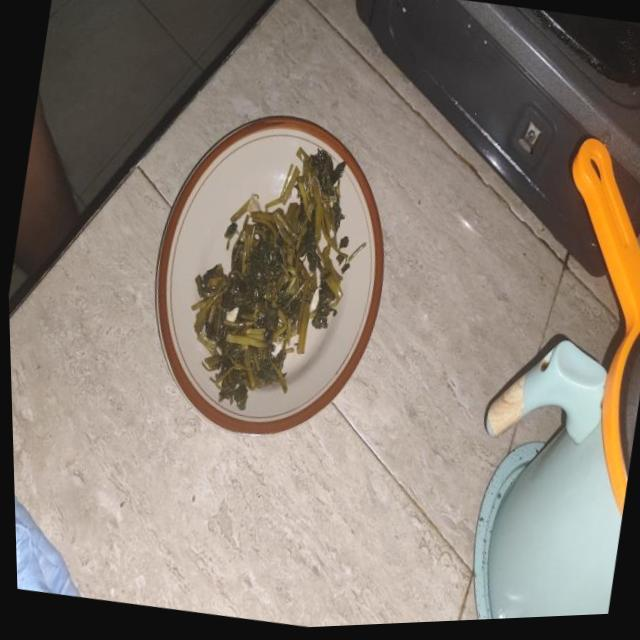tumis_kangkung: (192, 147, 366, 393)
